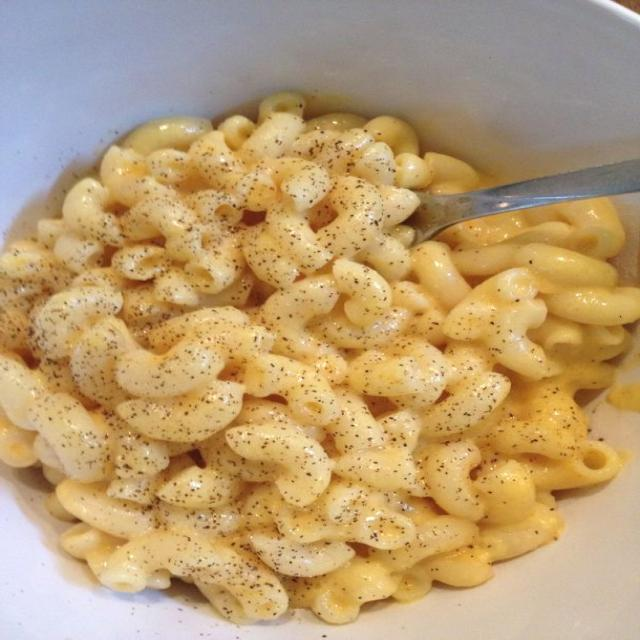pasta: (0, 186, 618, 620)
